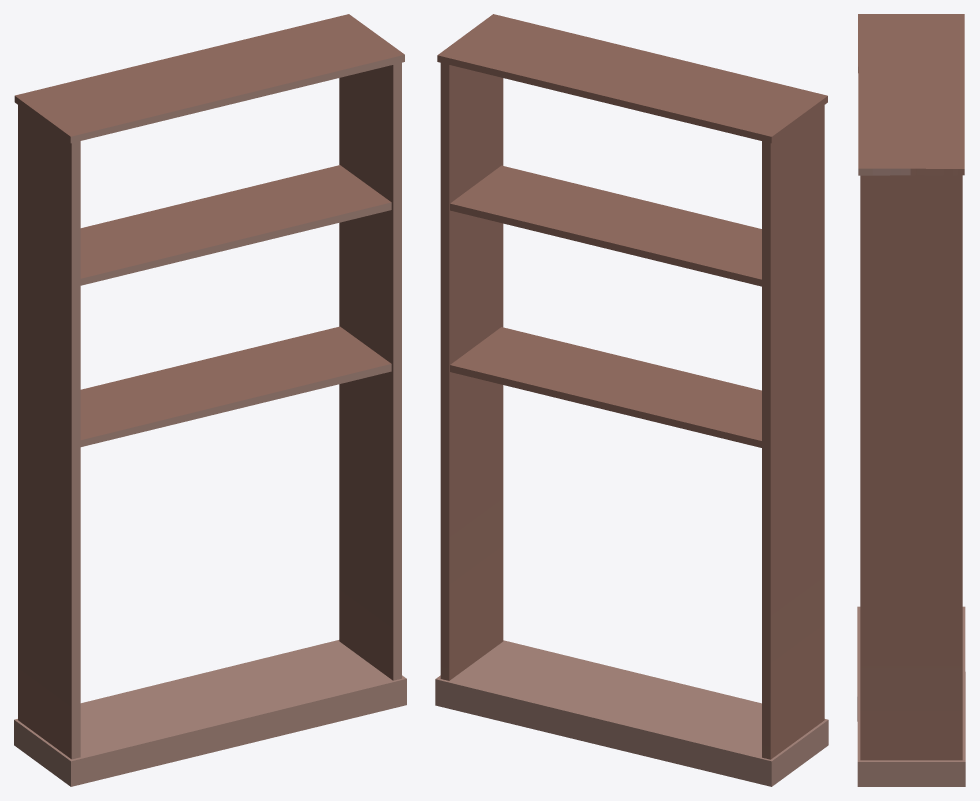
File: closet_033.glb
3 renders of one model, left to right at view 1: azimuth 30°, elevation 25°; view 2: azimuth 150°, elevation 25°; view 3: azimuth 270°, elevation 25°, orthographic. The views are drawn at different scales.
Parts seen in each view (by area): view 1: closet_033; view 2: closet_033; view 3: closet_033.
Part boxes in pixels (box(x1,y1,x2,y2)): closet_033: box(14, 14, 406, 786); closet_033: box(435, 14, 828, 786); closet_033: box(857, 14, 965, 786).
Bounding box in the file's own units: 1.73 × 3.2 × 0.5105.
1 material, 1 textured.
